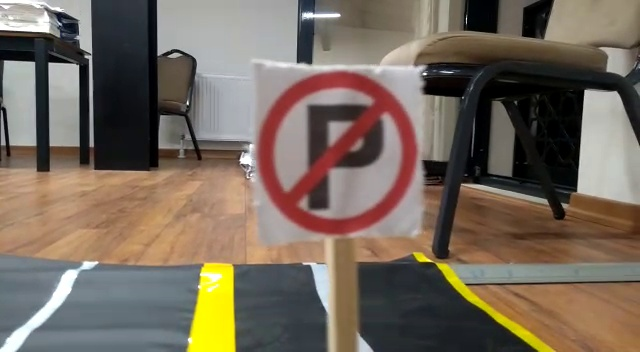park_yapilmaz: (255, 64, 426, 236)
